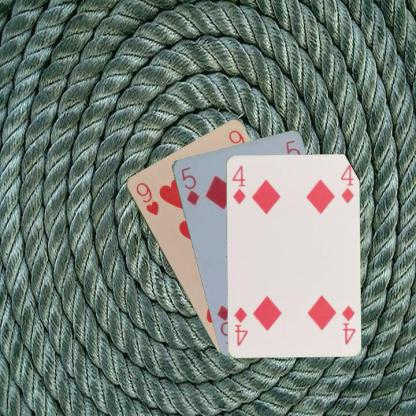4d: (339, 302, 357, 346), (229, 162, 247, 205)
5d: (178, 164, 200, 207)
9h: (133, 179, 160, 217)
